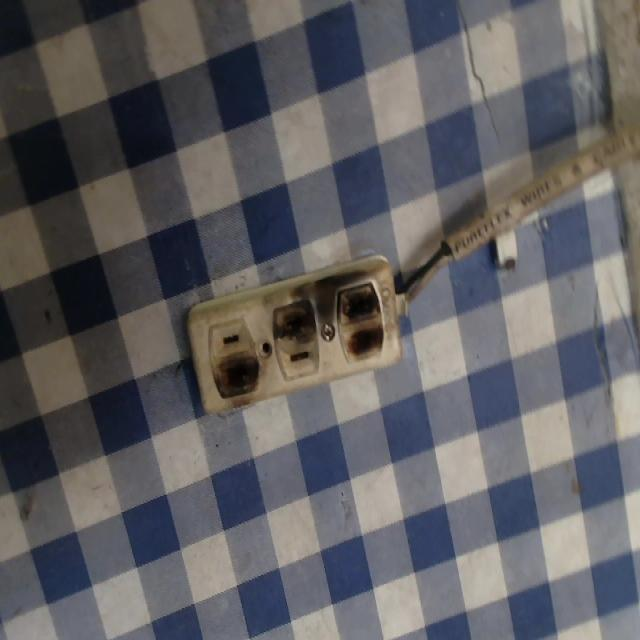-: (333, 264, 388, 373), (209, 349, 271, 404), (271, 288, 319, 351)
